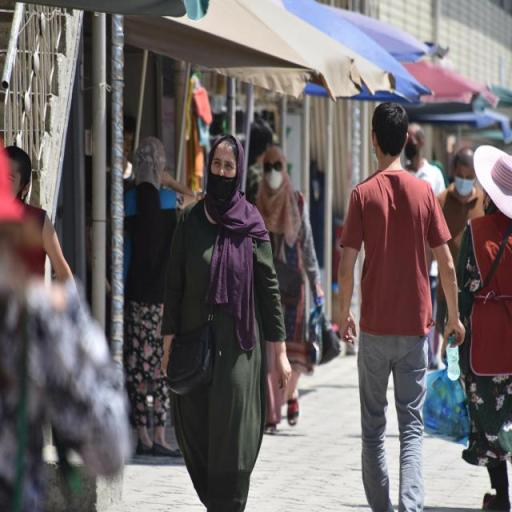person: (341, 98, 462, 512), (164, 135, 295, 512), (454, 136, 512, 512), (255, 144, 328, 438), (120, 134, 184, 454)
